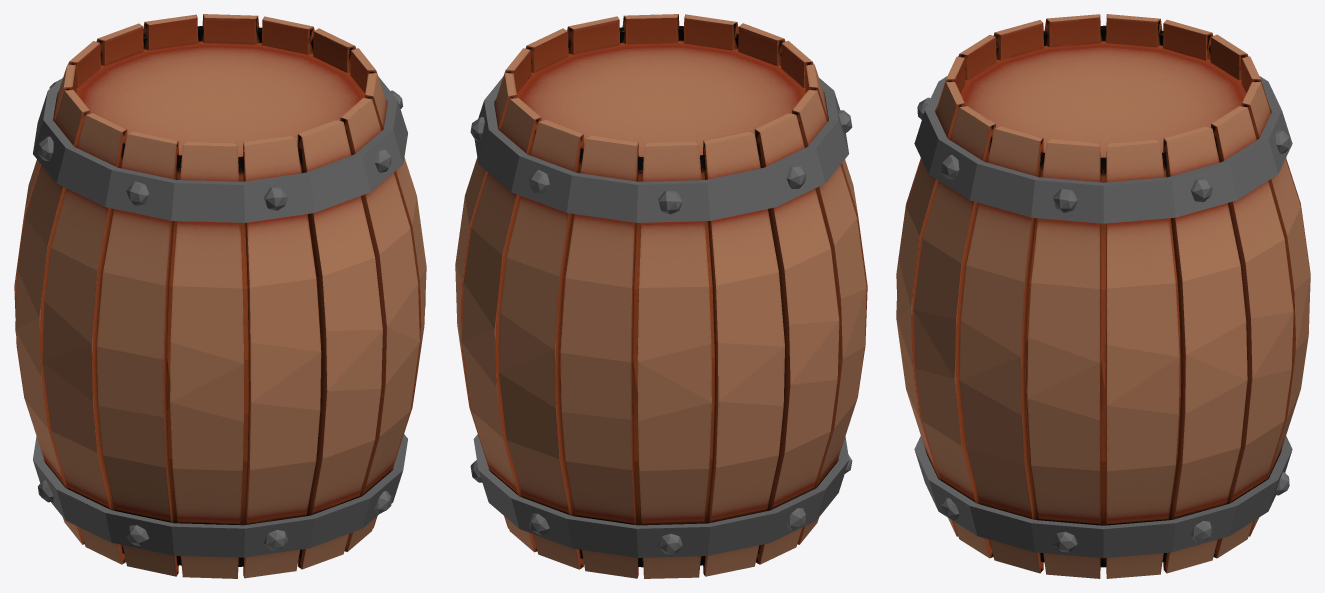
File: barrel.fbx
3 renders of one model, left to right at view 1: azimuth 30°, elevation 25°; view 2: azimuth 150°, elevation 25°; view 3: azimuth 270°, elevation 25°, orthographic.
Visible parts, largest first — view 1: barrel LP; view 2: barrel LP; view 3: barrel LP.
Boxes of the visible parts, <box> form: barrel LP: <box>14,14,426,578</box>; barrel LP: <box>455,14,867,578</box>; barrel LP: <box>896,14,1310,578</box>.
Bounding box in the file's own units: 261 × 301 × 261.
2 materials, 2 textured.
